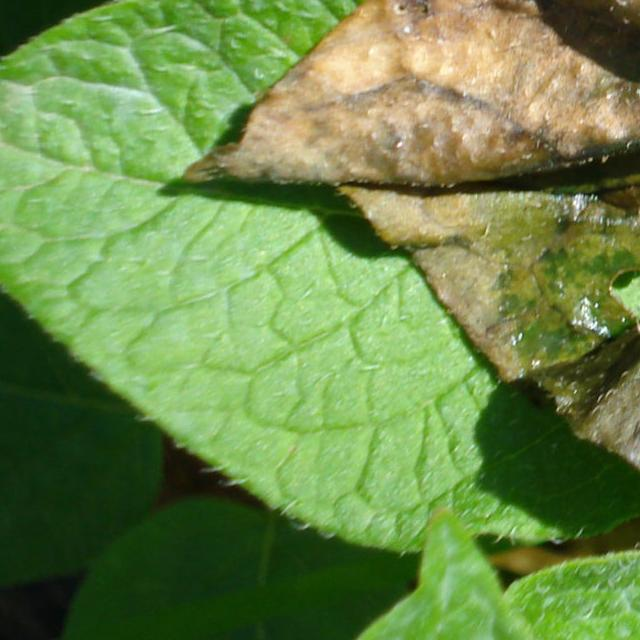Tomato leaf late blight: (161, 0, 640, 586)
